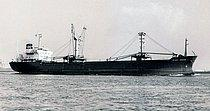Ship: (8, 19, 201, 83)
